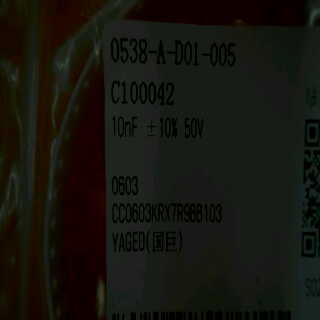10nF: (105, 110, 139, 139)
